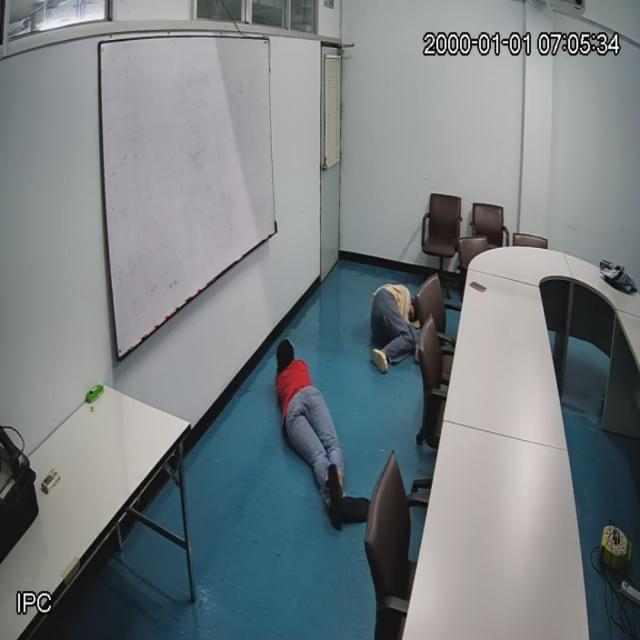fall: (275, 337, 362, 530), (370, 282, 416, 369)
